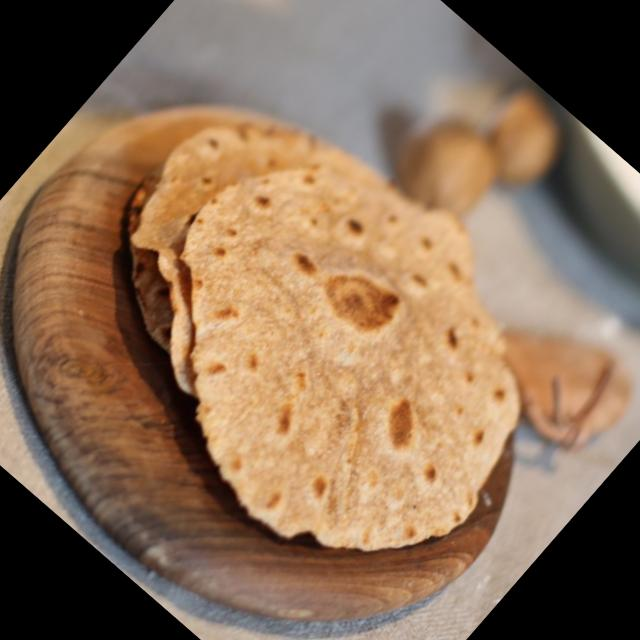roti: (131, 119, 521, 560)
